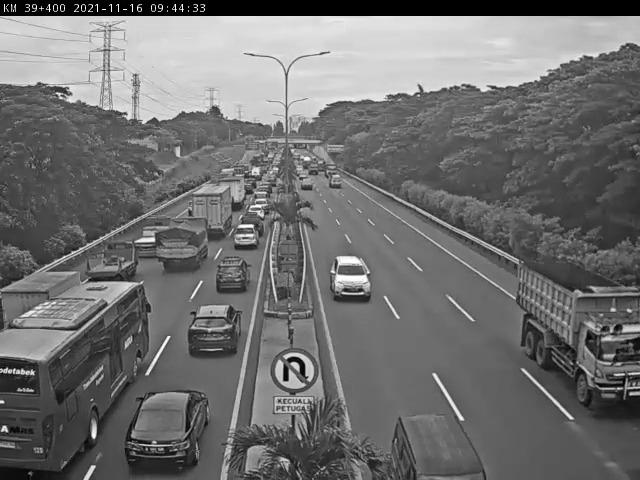big bus: (0, 280, 147, 471)
car: (125, 389, 211, 465), (187, 303, 242, 354), (331, 255, 370, 305), (216, 254, 247, 290), (232, 226, 257, 250), (241, 217, 264, 234), (247, 203, 266, 218)
small truck: (0, 269, 89, 332), (131, 208, 177, 255), (86, 238, 137, 279)
truck-l-: (516, 263, 640, 411), (191, 183, 234, 233)
truck-m-: (155, 218, 207, 270), (216, 179, 244, 210)
